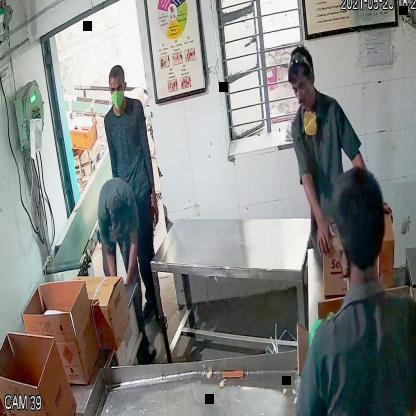no_goggles: (287, 77, 312, 95), (107, 81, 128, 95)
